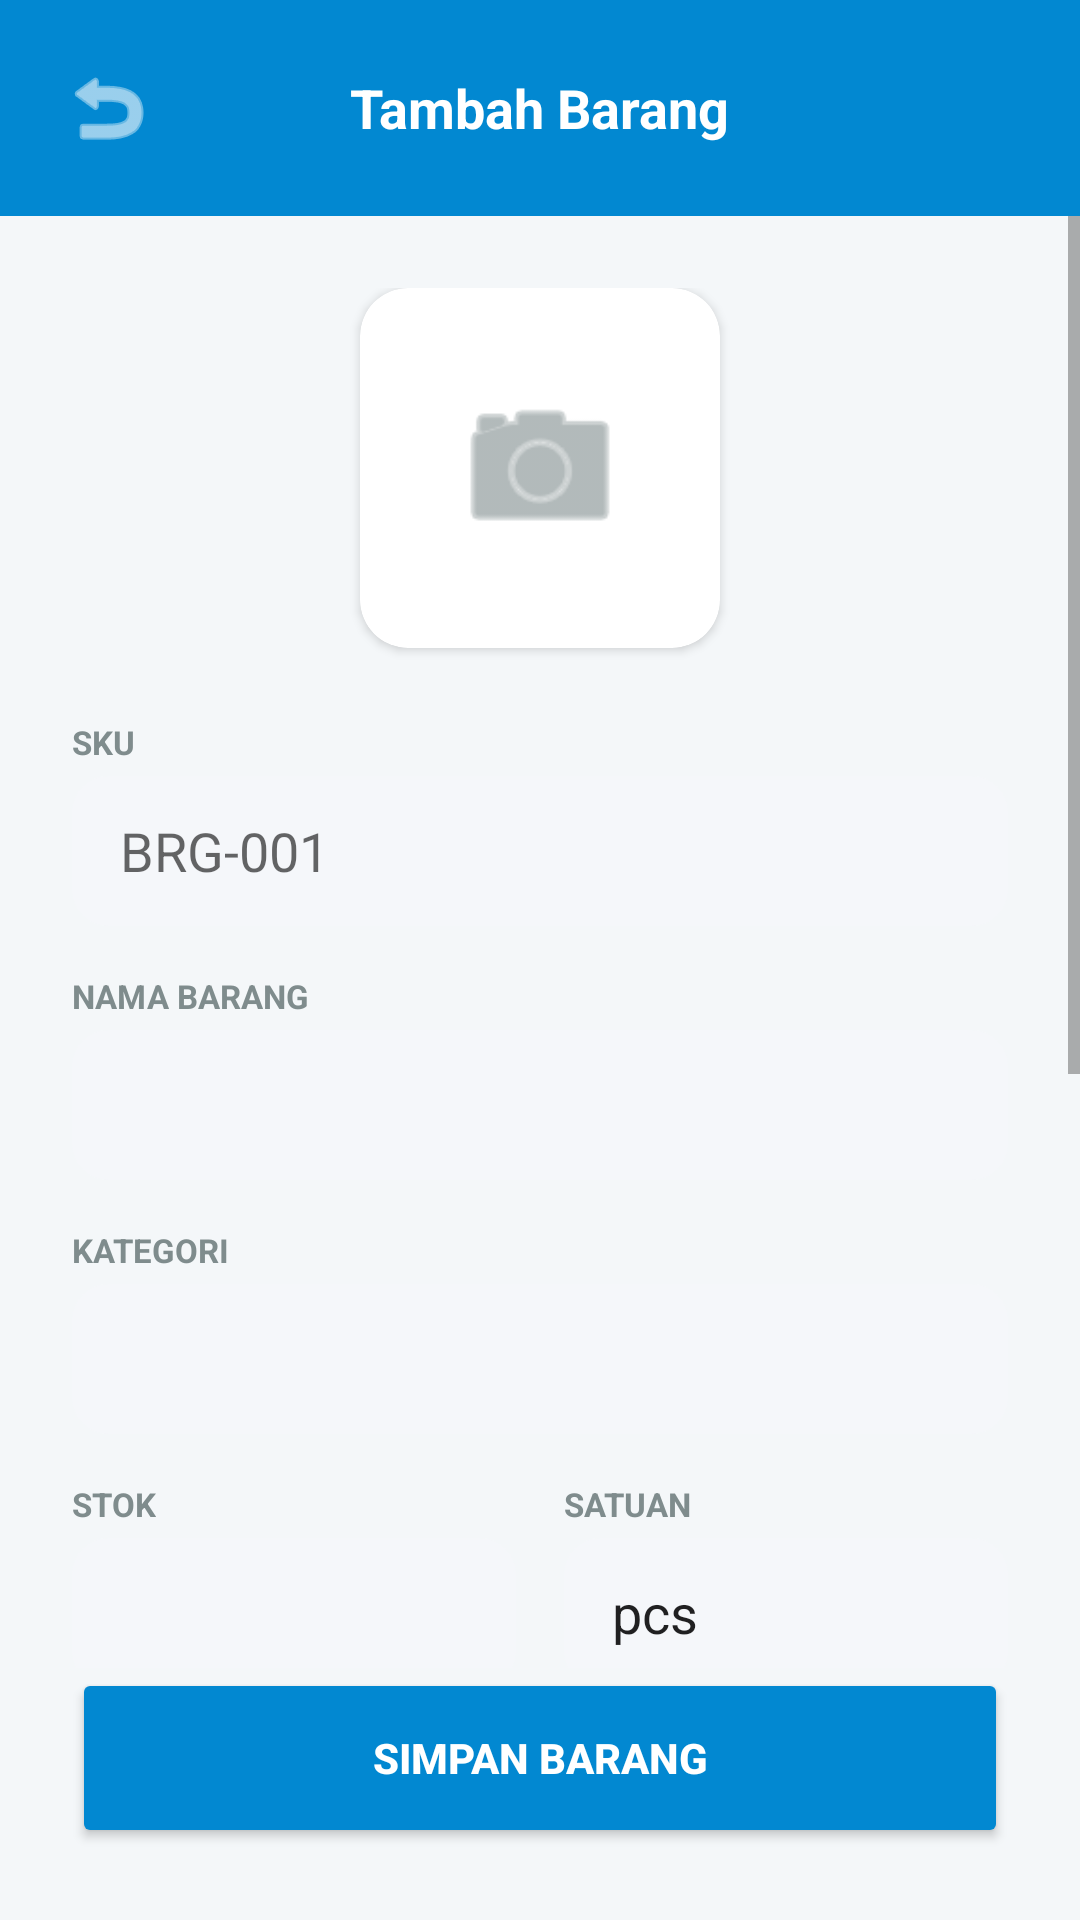

Where to tap for icons on this 1080 × 1920 app screen, as point (x, y):
camera: point (540, 468)
revert: point (109, 108)
